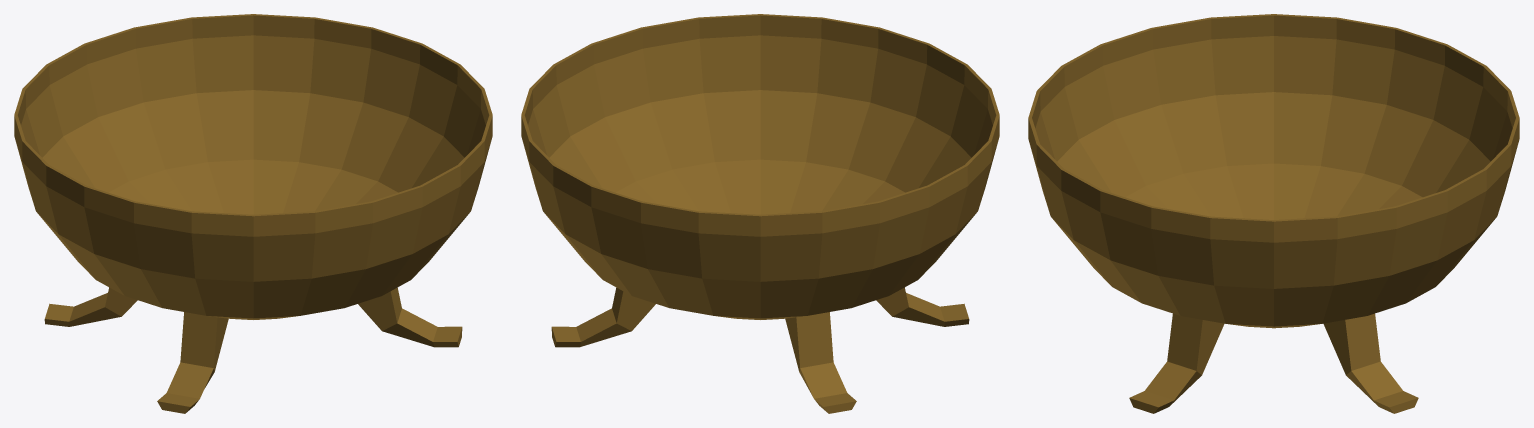
Rendered from Basin.fbx.
The picture shows the model from 3 angles, left to right: view 1: azimuth 30°, elevation 25°; view 2: azimuth 150°, elevation 25°; view 3: azimuth 270°, elevation 25°; orthographic projection. The views are drawn at different scales.
Visible parts, largest first — view 1: Basin; view 2: Basin; view 3: Basin.
Boxes of the visible parts, box(x1,y1,x2,y2) form: Basin: box(14, 14, 492, 413); Basin: box(521, 14, 999, 413); Basin: box(1028, 14, 1519, 413).
Size of the model in its own units: 0.5627 by 0.2813 by 0.5627.
